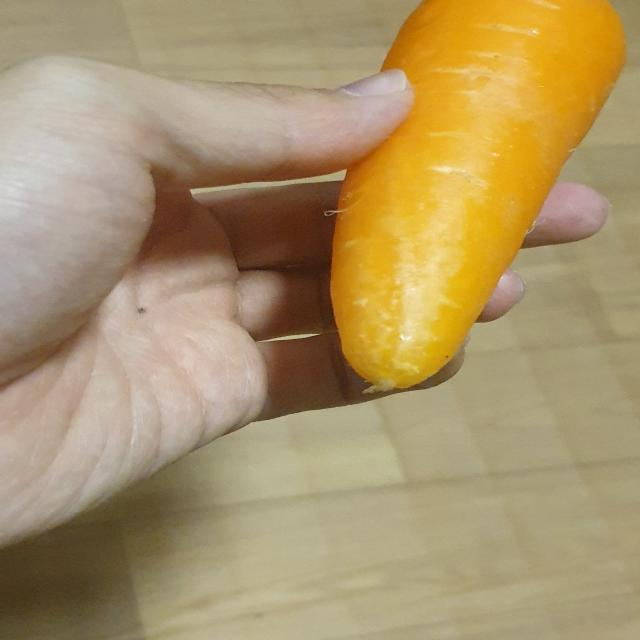carrot: (320, 0, 638, 404)
